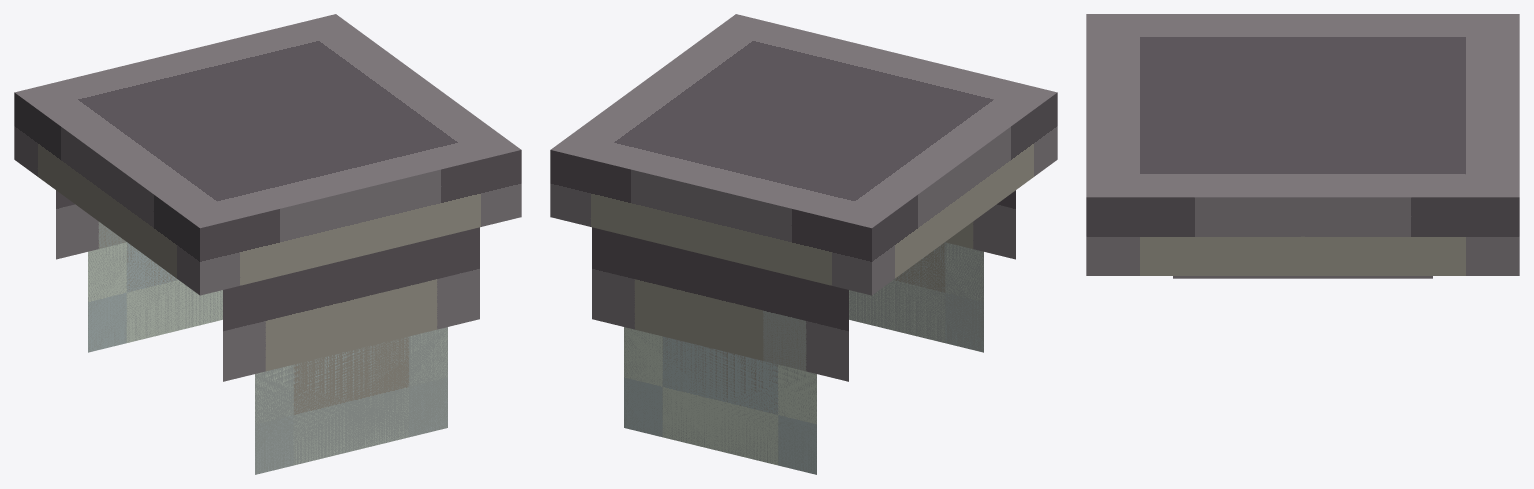
Rendered from m1_ceiling_fan_set.obj.
3 views of the same model, side by side, from view 1: azimuth 30°, elevation 25°; view 2: azimuth 150°, elevation 25°; view 3: azimuth 270°, elevation 25° (orthographic). The views are drawn at different scales.
Parts seen in each view (by area): view 1: part_bdb495107b23df9cacec00c0df473281, part_31bd0c6ce529faf0055b7e2f45d1e748, part_805c6ec745c02d0ff49b7cd1503d6b22, part_3601c3afb0e0933802ffb0324855a0ee, part_4dec684c130dc023c34ac26fc2e76df0; view 2: part_bdb495107b23df9cacec00c0df473281, part_4dec684c130dc023c34ac26fc2e76df0, part_3601c3afb0e0933802ffb0324855a0ee, part_805c6ec745c02d0ff49b7cd1503d6b22, part_31bd0c6ce529faf0055b7e2f45d1e748; view 3: part_bdb495107b23df9cacec00c0df473281, part_08d158237bf9960a8bd0bdf9ac62b932.
Part boxes in pixels (<box>): part_bdb495107b23df9cacec00c0df473281: <box>14,14,521,295</box>; part_31bd0c6ce529faf0055b7e2f45d1e748: <box>223,227,479,381</box>; part_805c6ec745c02d0ff49b7cd1503d6b22: <box>255,327,447,474</box>; part_3601c3afb0e0933802ffb0324855a0ee: <box>88,242,222,352</box>; part_4dec684c130dc023c34ac26fc2e76df0: <box>56,190,126,259</box>; part_bdb495107b23df9cacec00c0df473281: <box>550,14,1057,295</box>; part_4dec684c130dc023c34ac26fc2e76df0: <box>592,227,848,381</box>; part_3601c3afb0e0933802ffb0324855a0ee: <box>624,327,816,474</box>; part_805c6ec745c02d0ff49b7cd1503d6b22: <box>849,242,983,352</box>; part_31bd0c6ce529faf0055b7e2f45d1e748: <box>945,190,1015,259</box>; part_bdb495107b23df9cacec00c0df473281: <box>1086,14,1519,275</box>; part_08d158237bf9960a8bd0bdf9ac62b932: <box>1173,276,1432,278</box>.
Size of the model in its own units: 0.3516 by 0.2812 by 0.3516.
